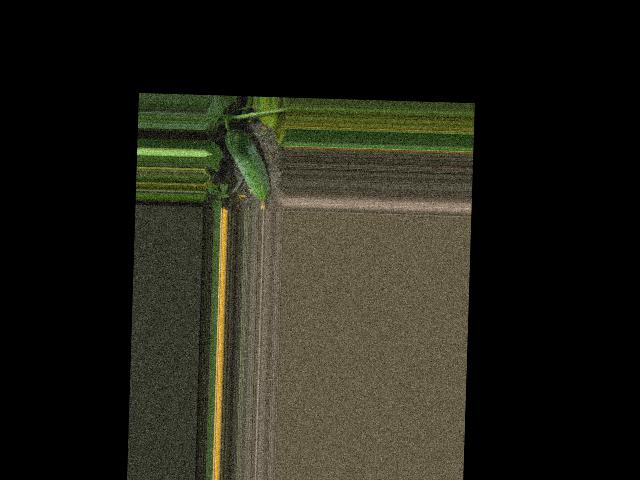cucumber: (223, 128, 273, 211)
